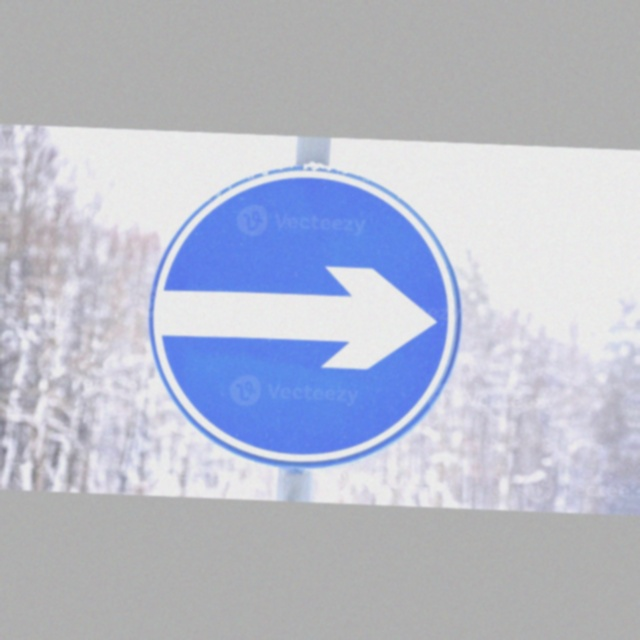Compulsory_Turn_Right: (143, 158, 469, 471)
